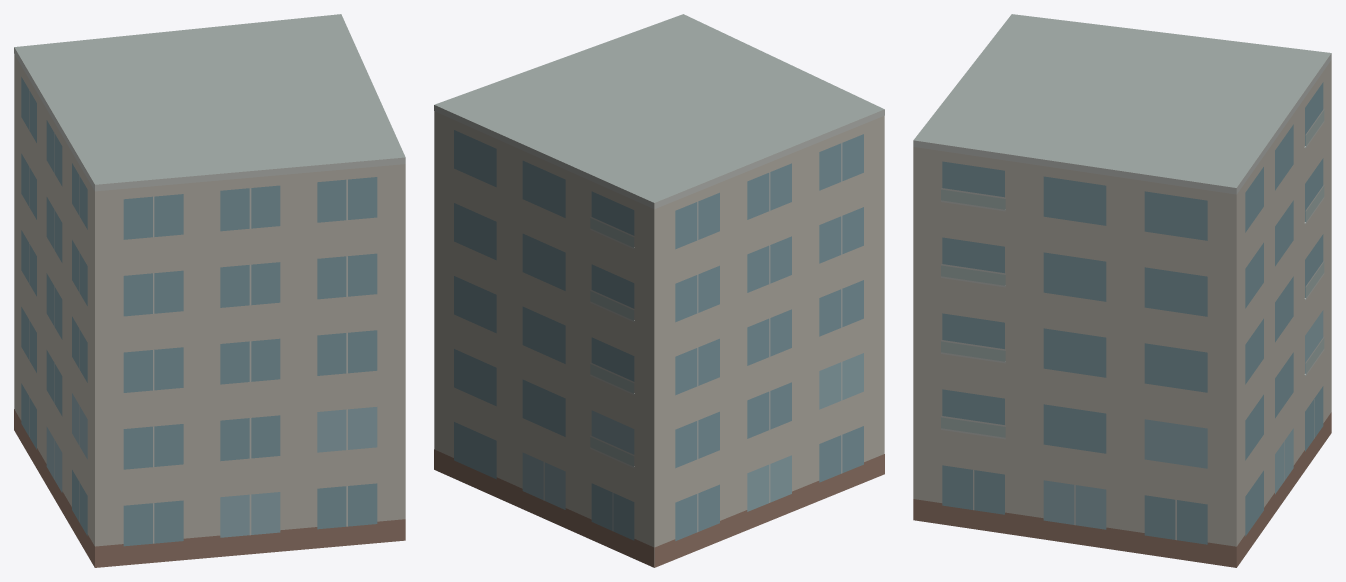
File: survey-upis-32646569.glb
3 views of the same model, side by side, from view 1: azimuth 30°, elevation 25°; view 2: azimuth 150°, elevation 25°; view 3: azimuth 270°, elevation 25° (orthographic). The views are drawn at different scales.
Parts seen in each view (by area): view 1: survey-upis-32646569.tmp; view 2: survey-upis-32646569.tmp; view 3: survey-upis-32646569.tmp.
Part boxes in pixels (box(x1,y1,x2,y2)): survey-upis-32646569.tmp: box(14, 14, 405, 567); survey-upis-32646569.tmp: box(434, 14, 884, 567); survey-upis-32646569.tmp: box(913, 14, 1331, 567).
Size of the model in its own units: 13.97 by 14.2 by 14.18.
